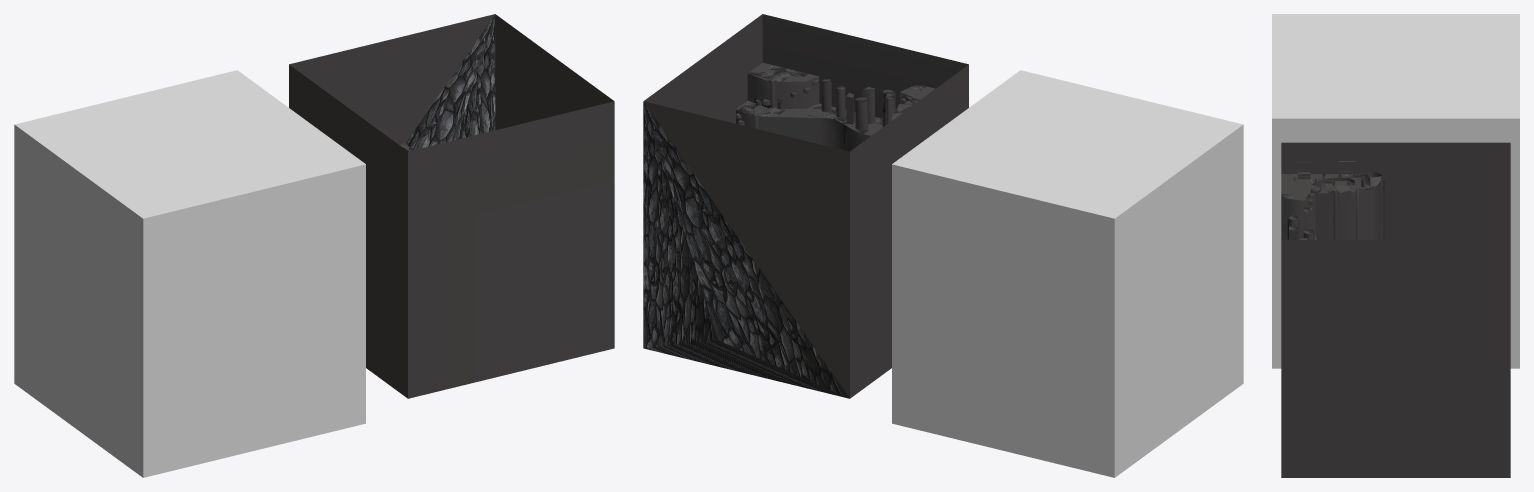
The model's file is PARKOURTRAINING_GROUNDFIX 1.fbx.
3 views of the same model, side by side, from view 1: azimuth 30°, elevation 25°; view 2: azimuth 150°, elevation 25°; view 3: azimuth 270°, elevation 25° (orthographic). The views are drawn at different scales.
Parts seen in each view (by area): view 1: Sky1100_DemoSkyWorldModel0, PhysicsBSP; view 2: Sky1100_DemoSkyWorldModel0, PhysicsBSP; view 3: PhysicsBSP, Sky1100_DemoSkyWorldModel0.
Part boxes in pixels (x1=…): Sky1100_DemoSkyWorldModel0: x1=14, y1=70, x2=365, y2=477; PhysicsBSP: x1=289, y1=14, x2=614, y2=398; Sky1100_DemoSkyWorldModel0: x1=892, y1=70, x2=1243, y2=477; PhysicsBSP: x1=643, y1=14, x2=968, y2=398; PhysicsBSP: x1=1281, y1=142, x2=1510, y2=477; Sky1100_DemoSkyWorldModel0: x1=1272, y1=14, x2=1519, y2=368.
Size of the model in its own units: 29520 by 15360 by 13824.
1 material, 1 textured.
